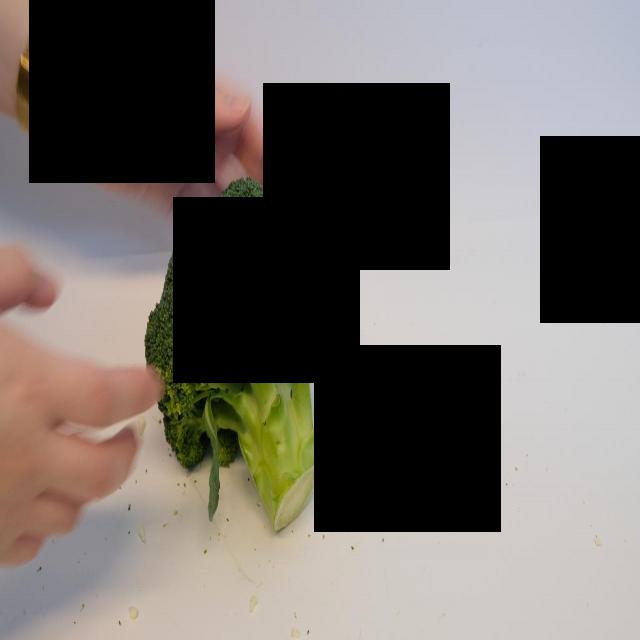broccoli: (143, 176, 333, 533)
